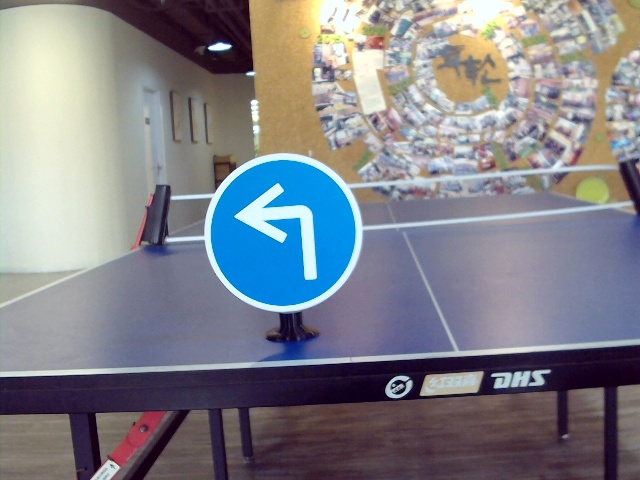turn_left: (233, 182, 328, 283)
